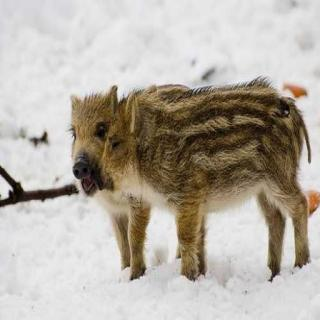Pig: (41, 56, 320, 306)
